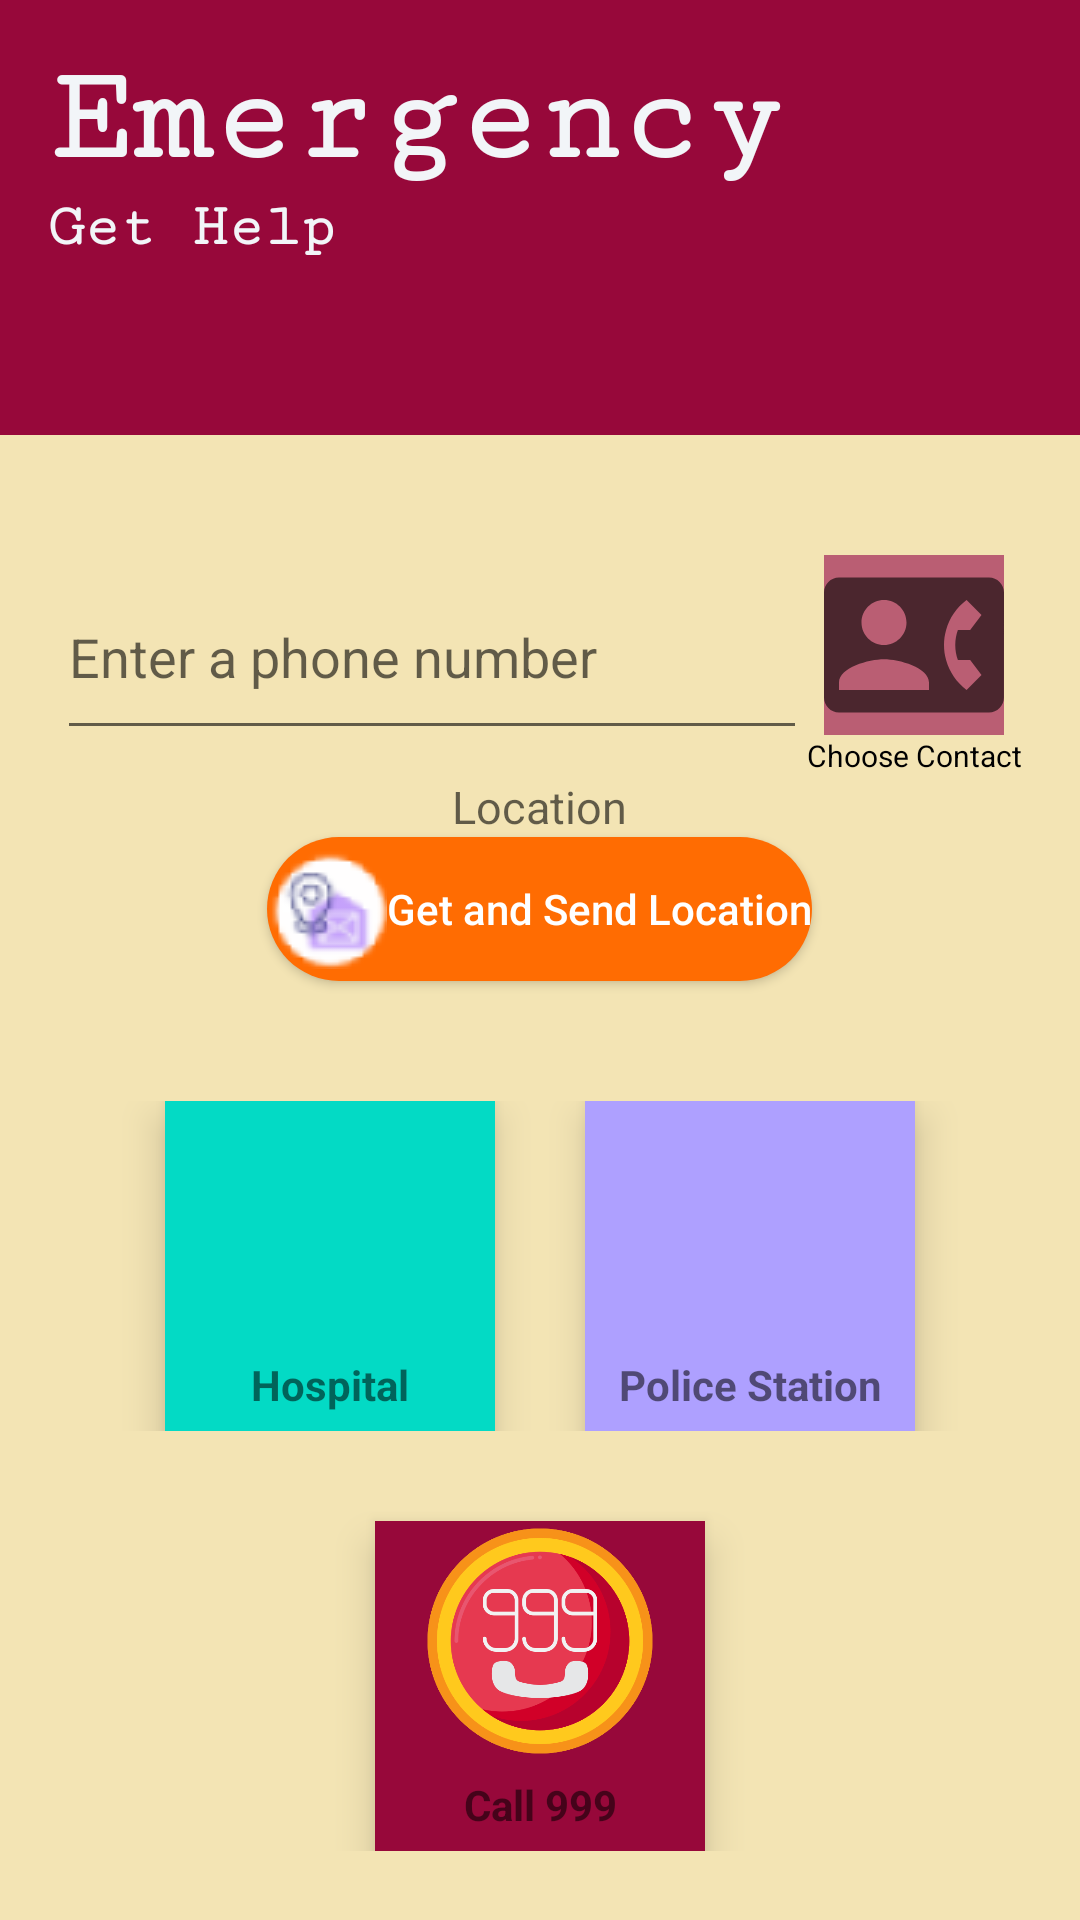

Icon click points for this 1080*1920 phone screenshot, format (x,y):
contact phone: (914,645)
